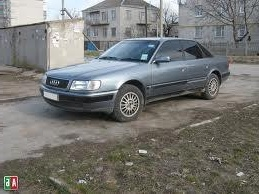car: (27, 26, 241, 141)
